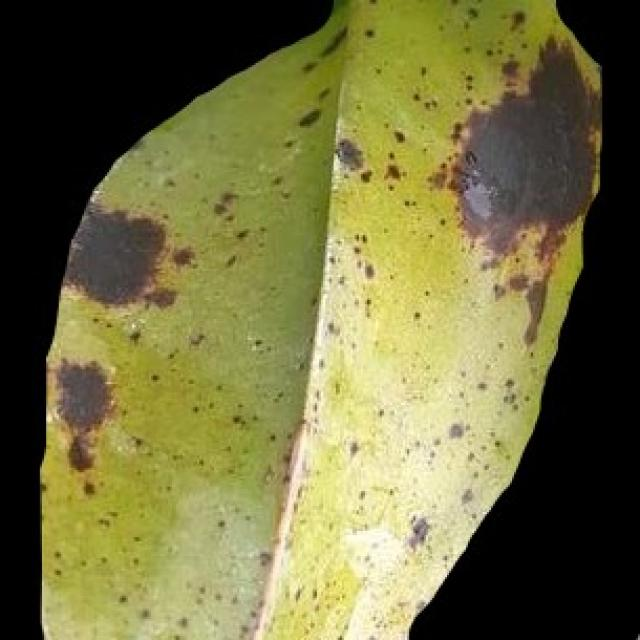mite: (453, 90, 592, 235), (334, 134, 363, 170), (296, 105, 321, 128), (447, 420, 464, 439), (115, 592, 128, 604)
spots: (38, 0, 604, 638)
sunburn: (63, 199, 187, 315)
